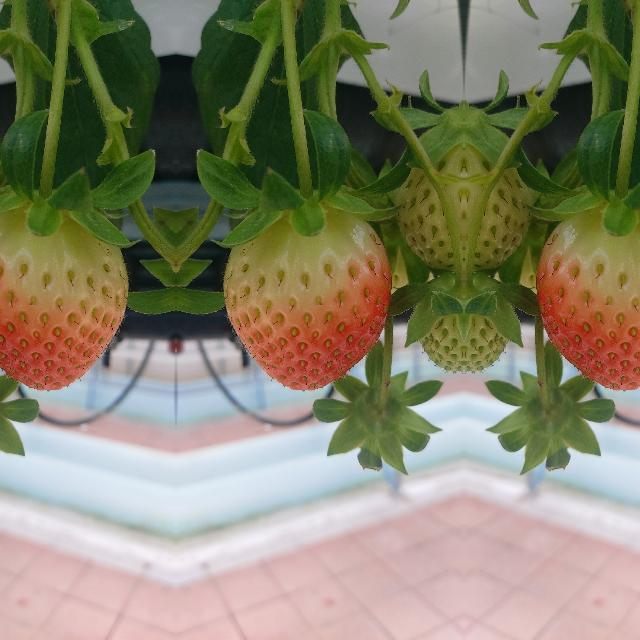Health_25: (398, 140, 462, 270), (464, 140, 528, 270), (408, 281, 462, 373), (464, 281, 518, 373)
Health_75: (222, 206, 390, 390), (0, 206, 127, 389), (536, 206, 640, 389)
